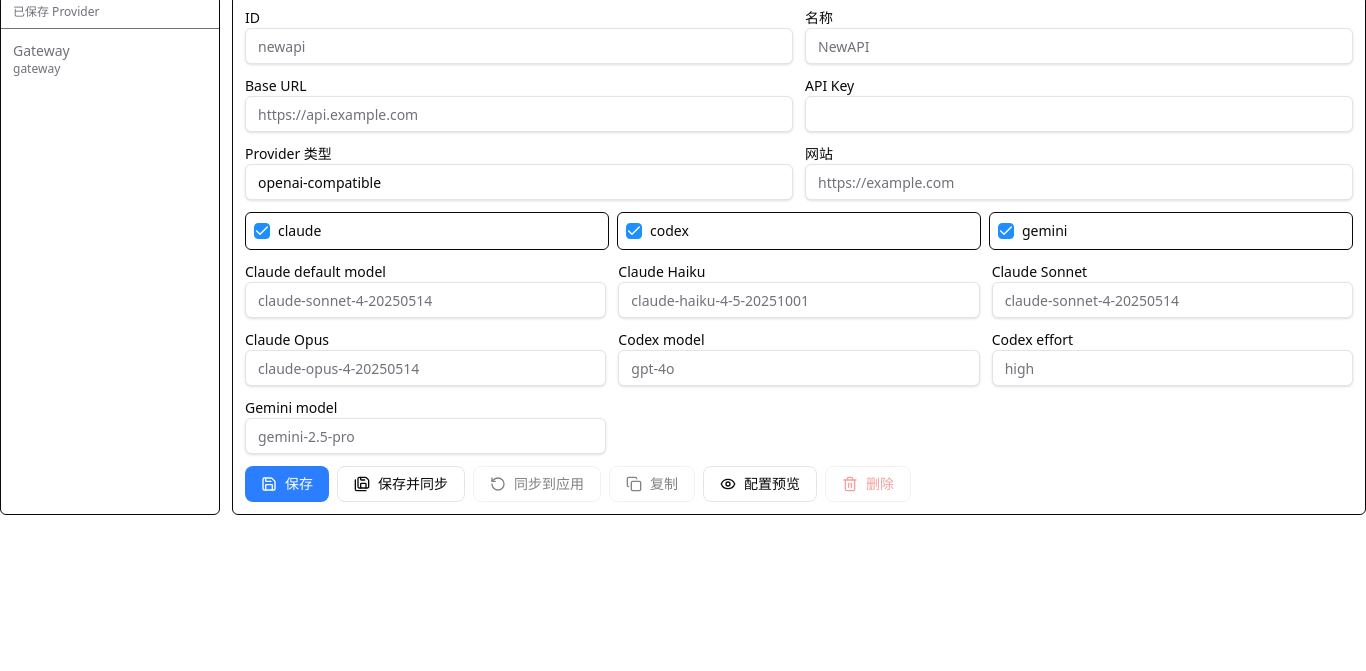
Test: UniversalProvidersSection › uses backend conversion for preview and masks credentials
This screenshot has width=1366, height=671.
Click the button "Gateway gateway": (110, 59) [5,33,215,85]
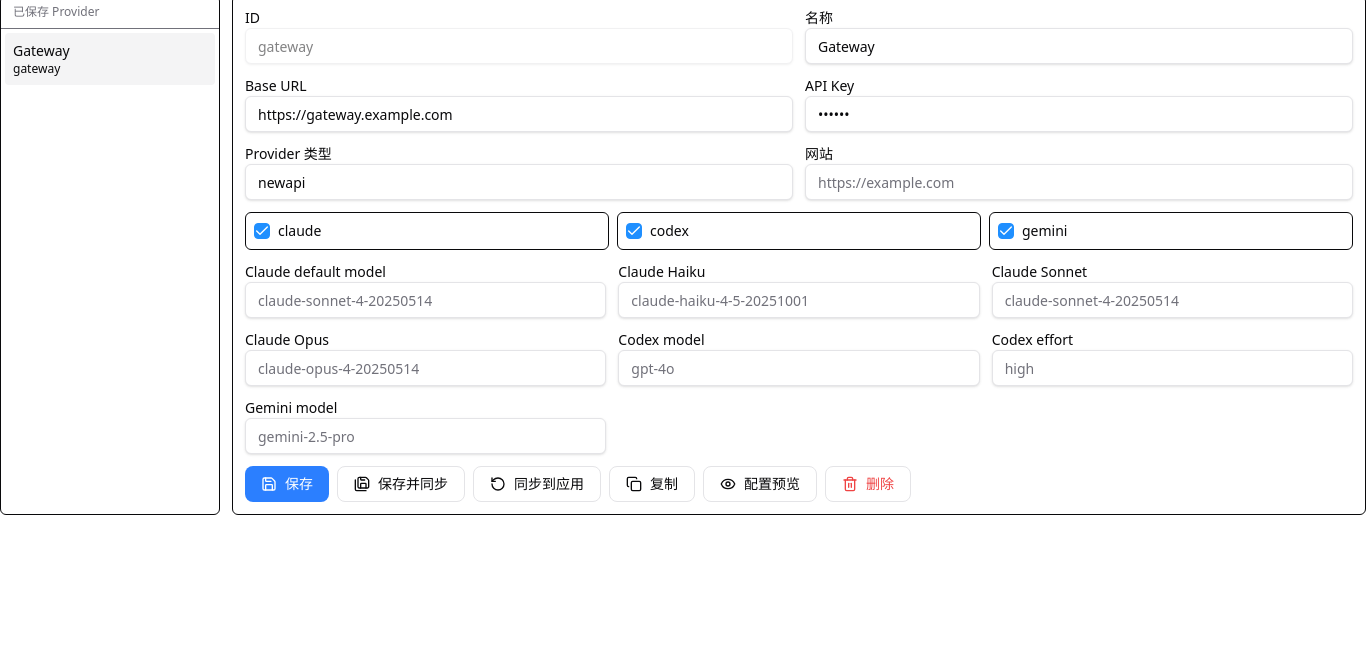
Click the button "配置预览": (760, 484) [703,466,817,502]
(page scrolled)
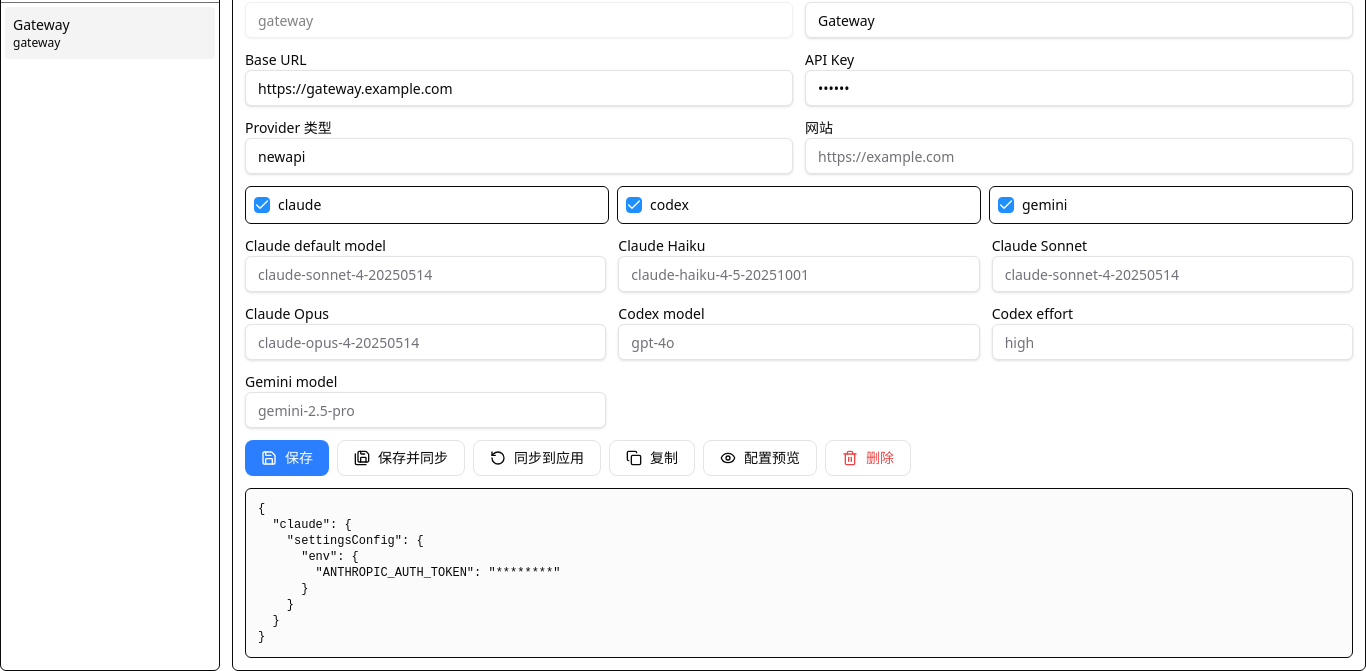
Expected: the text "********" is shown, [258,502,560,644]
